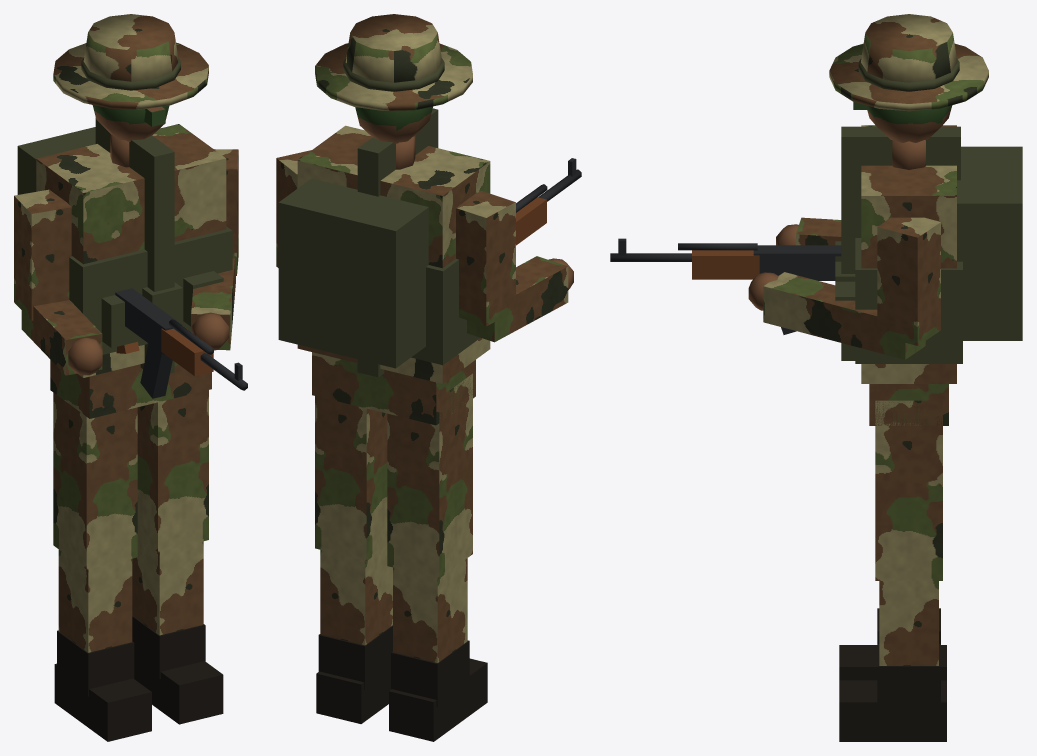
Rendered from soldier_sf.fbx.
3 renders of one model, left to right at view 1: azimuth 30°, elevation 25°; view 2: azimuth 150°, elevation 25°; view 3: azimuth 270°, elevation 25°, orthographic.
Parts seen in each view (by area): view 1: Torso, LegR, LegL, Head, ArmR, Rifle, Pelvis, ArmL; view 2: Torso, LegR, LegL, Head, ArmR, Pelvis, Rifle, ArmL; view 3: Torso, LegL, ArmL, Head, Rifle, Pelvis, LegR, ArmR.
Part boxes in pixels (x1=…): Torso: x1=17, y1=118, x2=232, y2=377; LegR: x1=53, y1=392, x2=151, y2=741; LegL: x1=132, y1=390, x2=223, y2=724; Head: x1=53, y1=14, x2=208, y2=141; ArmR: x1=14, y1=189, x2=102, y2=375; Rifle: x1=115, y1=288, x2=247, y2=398; Pelvis: x1=50, y1=360, x2=211, y2=418; ArmL: x1=191, y1=149, x2=238, y2=350; Torso: x1=278, y1=108, x2=490, y2=383; LegR: x1=387, y1=373, x2=487, y2=741; LegL: x1=315, y1=396, x2=392, y2=723; Head: x1=315, y1=14, x2=472, y2=143; ArmR: x1=456, y1=190, x2=573, y2=342; Pelvis: x1=312, y1=352, x2=475, y2=425; Rifle: x1=516, y1=158, x2=581, y2=245; ArmL: x1=276, y1=150, x2=311, y2=267; Torso: x1=835, y1=125, x2=1022, y2=383; LegL: x1=839, y1=400, x2=946, y2=741; ArmL: x1=748, y1=217, x2=940, y2=359; Head: x1=829, y1=14, x2=988, y2=142; Rifle: x1=610, y1=238, x2=841, y2=334; Pelvis: x1=869, y1=384, x2=948, y2=425; LegR: x1=839, y1=608, x2=946, y2=680; ArmR: x1=776, y1=217, x2=841, y2=245.
Size of the model in its own units: 0.6769 by 1.89 by 1.03.
